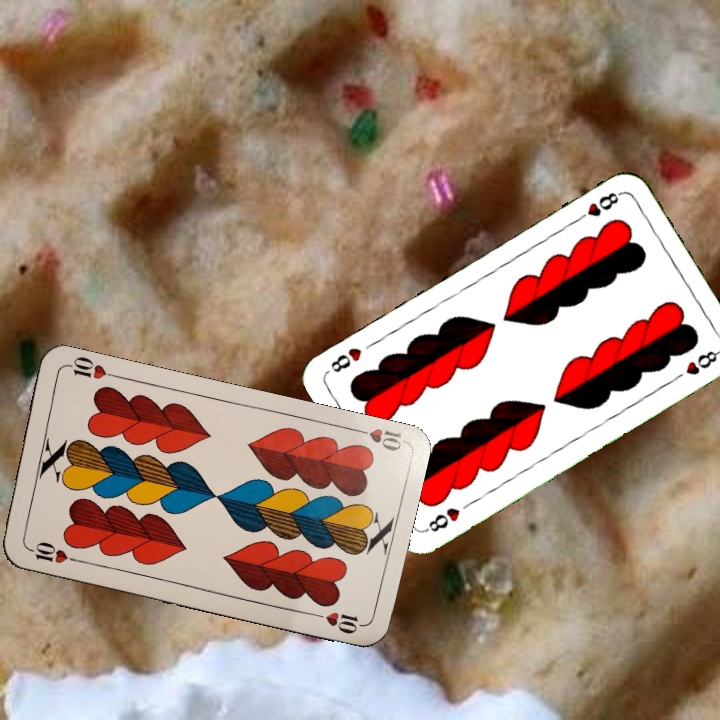H10: (348, 424, 407, 454), (23, 537, 81, 566)
H8: (571, 187, 625, 225), (421, 503, 463, 535)
